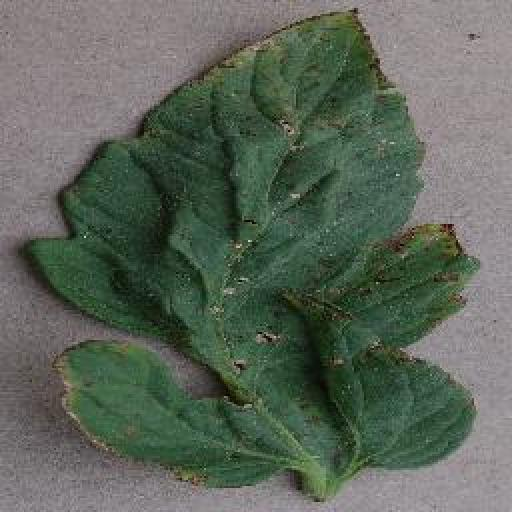Bacterial Spot: (24, 3, 483, 489)
